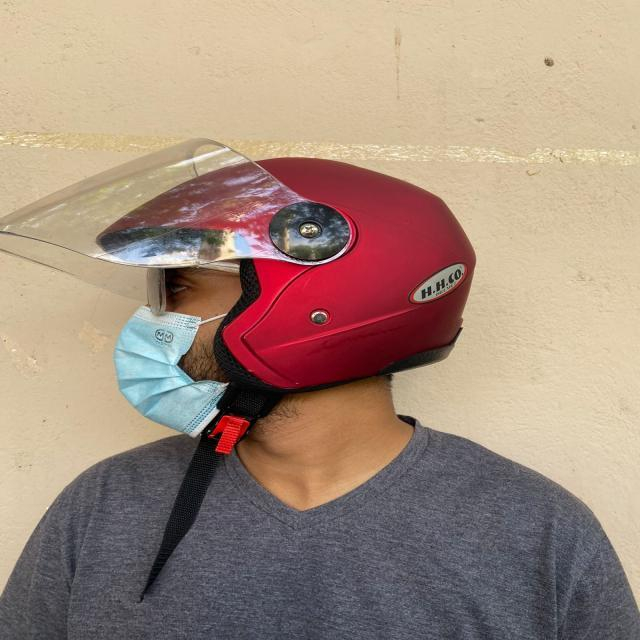helmet: (4, 101, 512, 482)
